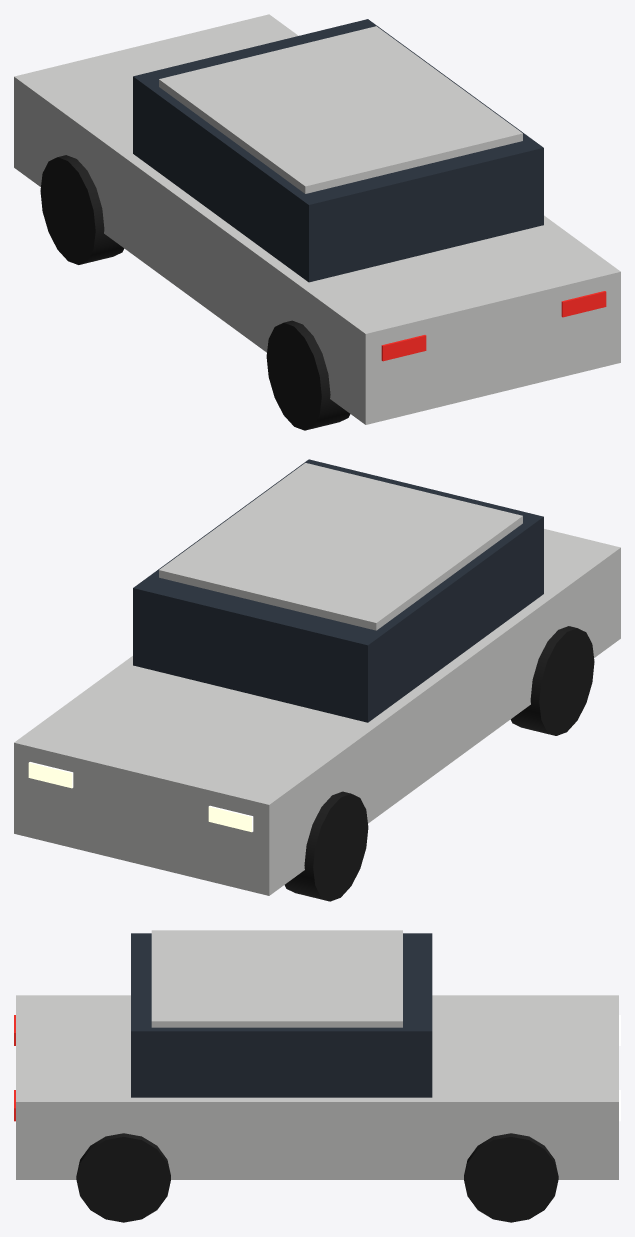
Rendered from car.glb.
The picture shows the model from 3 angles, top to bottom: view 1: azimuth 30°, elevation 25°; view 2: azimuth 150°, elevation 25°; view 3: azimuth 270°, elevation 25°; orthographic projection. The views are drawn at different scales.
Parts seen in each view (by area): view 1: car; view 2: car; view 3: car.
Part boxes in pixels (x1=…): car: x1=14, y1=14, x2=620, y2=430; car: x1=14, y1=459, x2=620, y2=901; car: x1=14, y1=930, x2=620, y2=1222.
Bounding box in the file's own units: 1.88 × 1.46 × 4.23.
